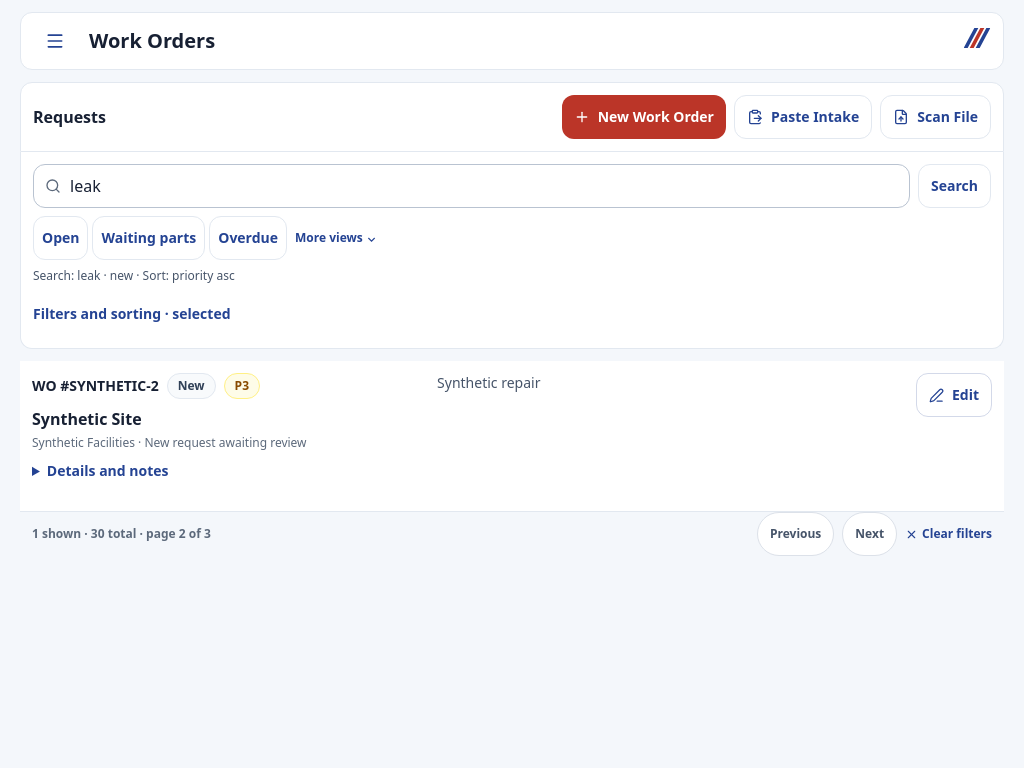
Scenario: intake route and saved queue context › uses URL filters, sort and page on its first request and keeps them after create and edit
Check: the text "WO #SYNTHETIC-2" is shown, box x1=32 y1=376 x2=159 y2=396
Step 1. Click the button "New Work Order" → (644, 117), box x1=562 y1=95 x2=726 y2=139
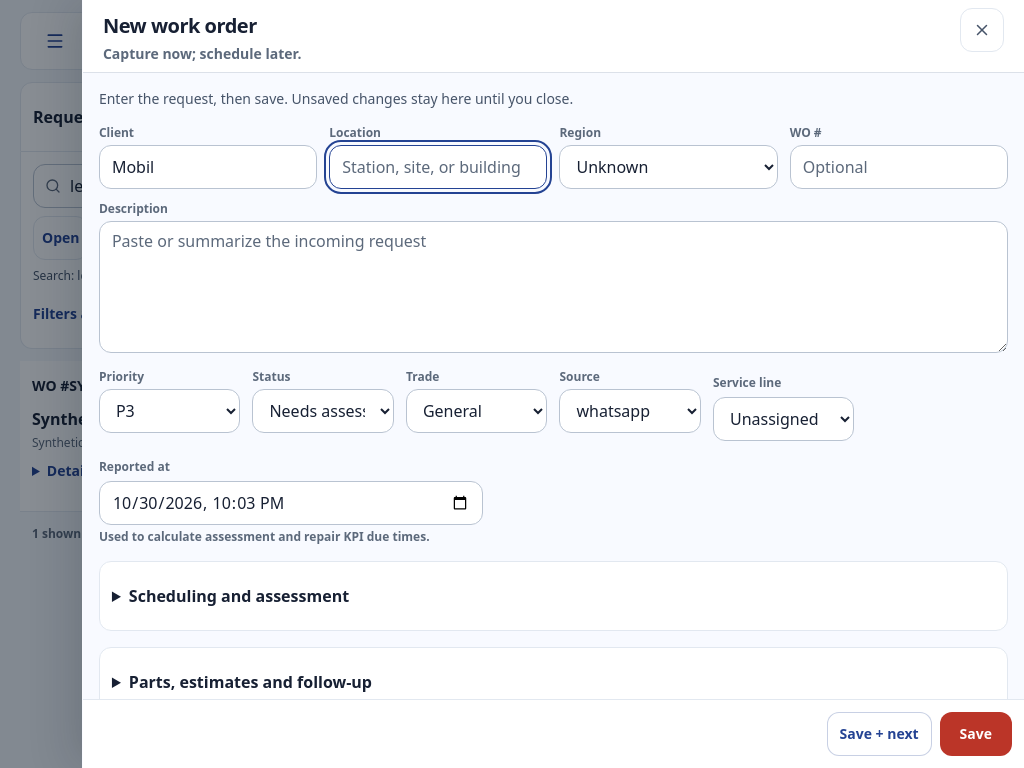
Step 2. Type "Synthetic second site" into the field labelled "Location" → (438, 167), box x1=329 y1=145 x2=548 y2=189
Step 3. Type "Synthetic second request" into the text box labelled "Description" → (553, 287), box x1=99 y1=221 x2=1008 y2=353
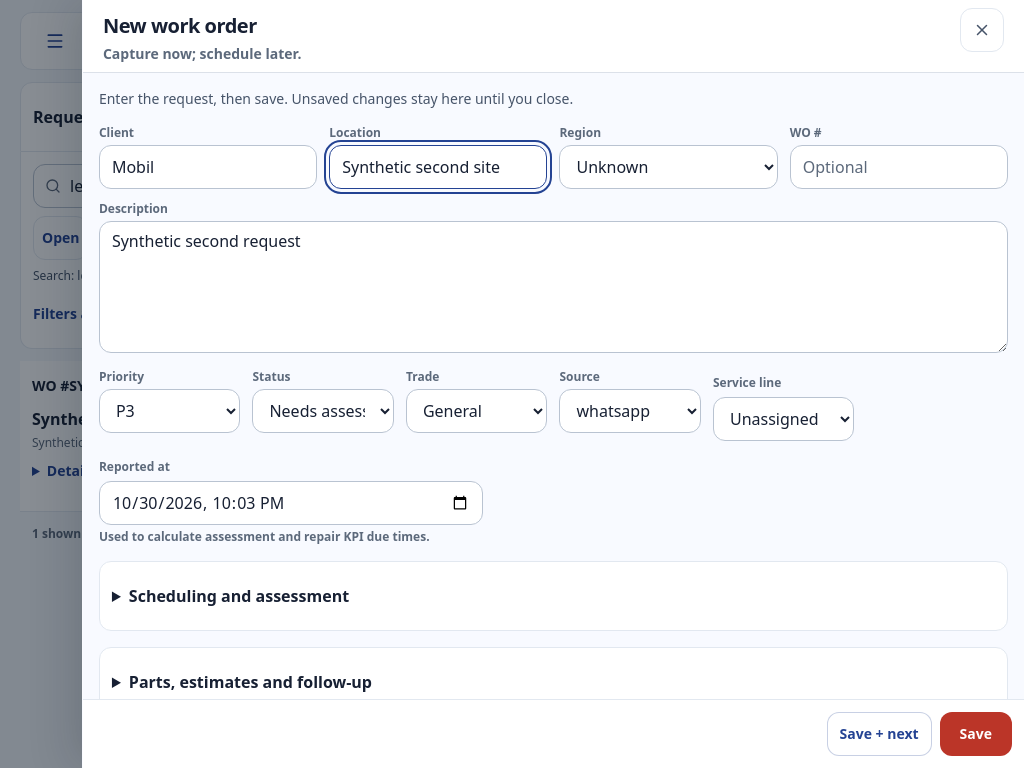
Step 4. Click the button with aria-label "Save Work Order" → (976, 734), box x1=940 y1=712 x2=1012 y2=756
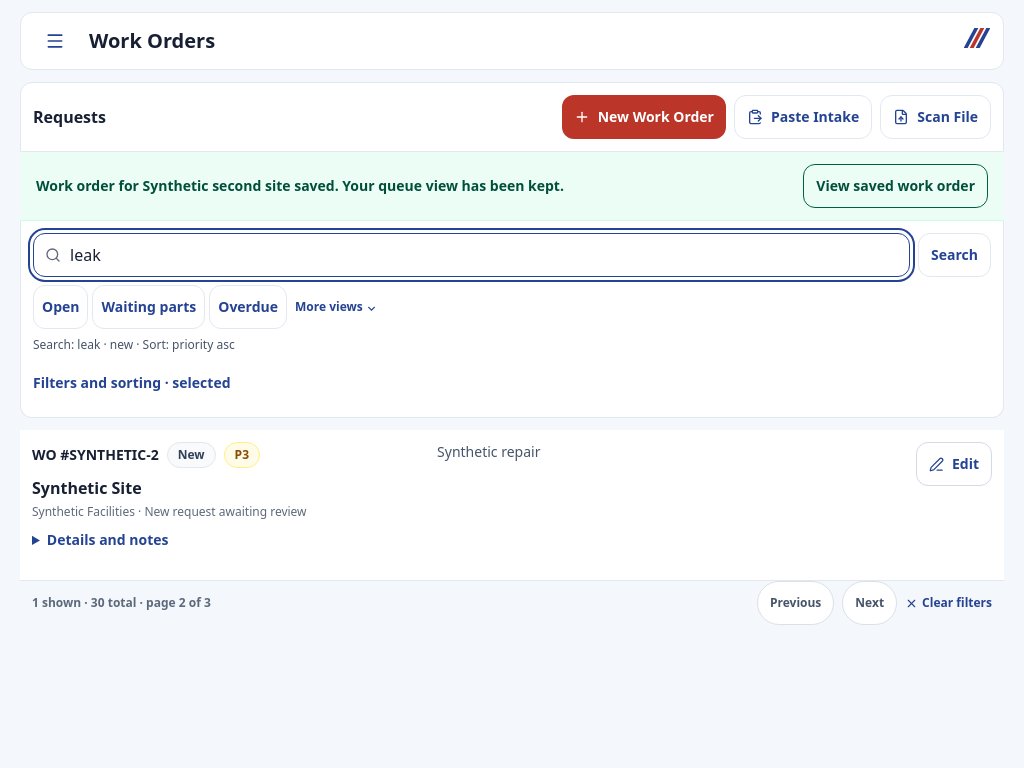
Check: the dialog is gone
Step 5. Click the button "Edit" → (954, 464), box x1=916 y1=442 x2=992 y2=486
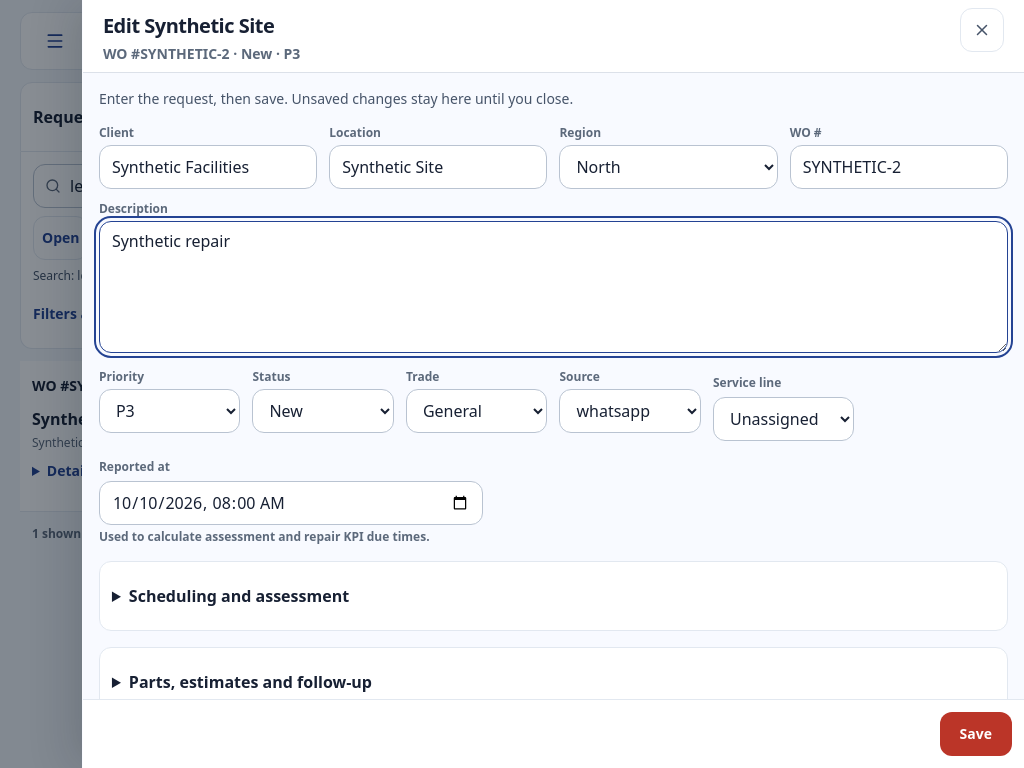
Step 6. Replace the text in the text box labelled "Description" with "Synthetic updated request" → (553, 287), box x1=99 y1=221 x2=1008 y2=353
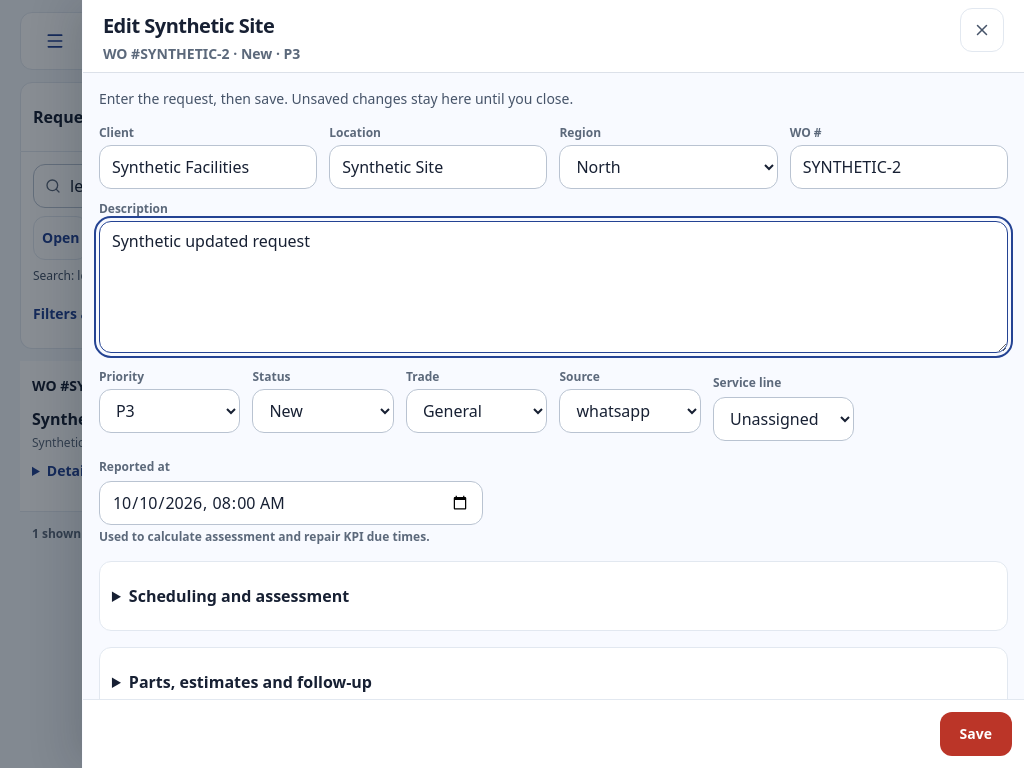
Step 7. Click the button with aria-label "Save Work Order" → (976, 734), box x1=940 y1=712 x2=1012 y2=756
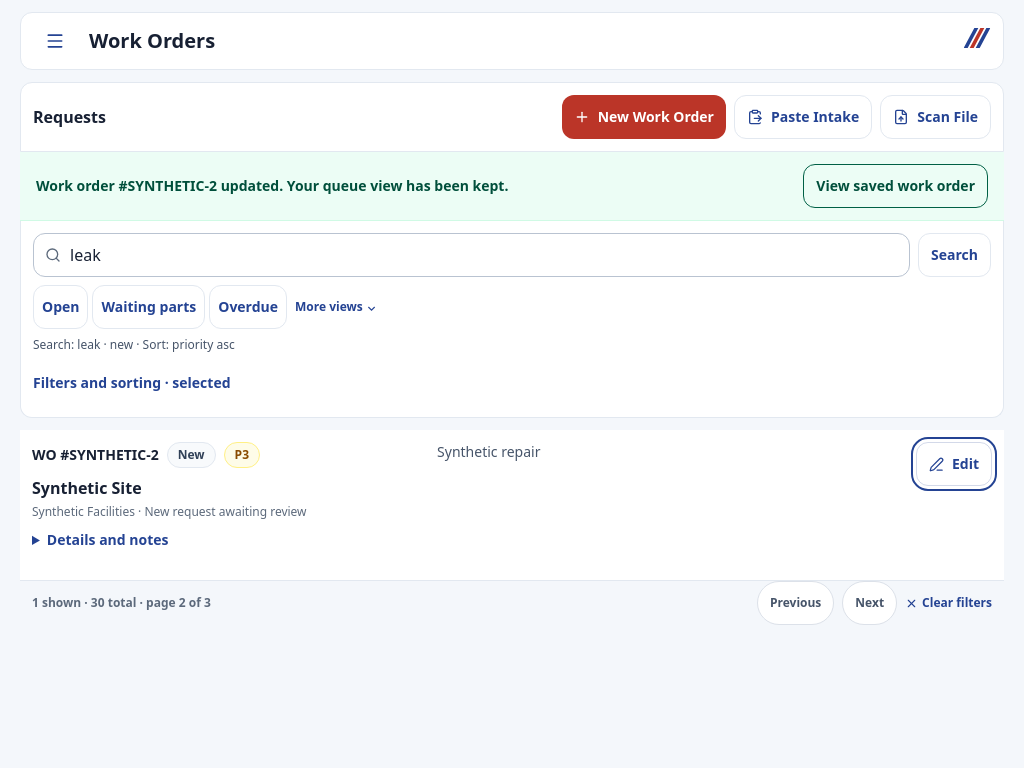
Check: the dialog is gone
